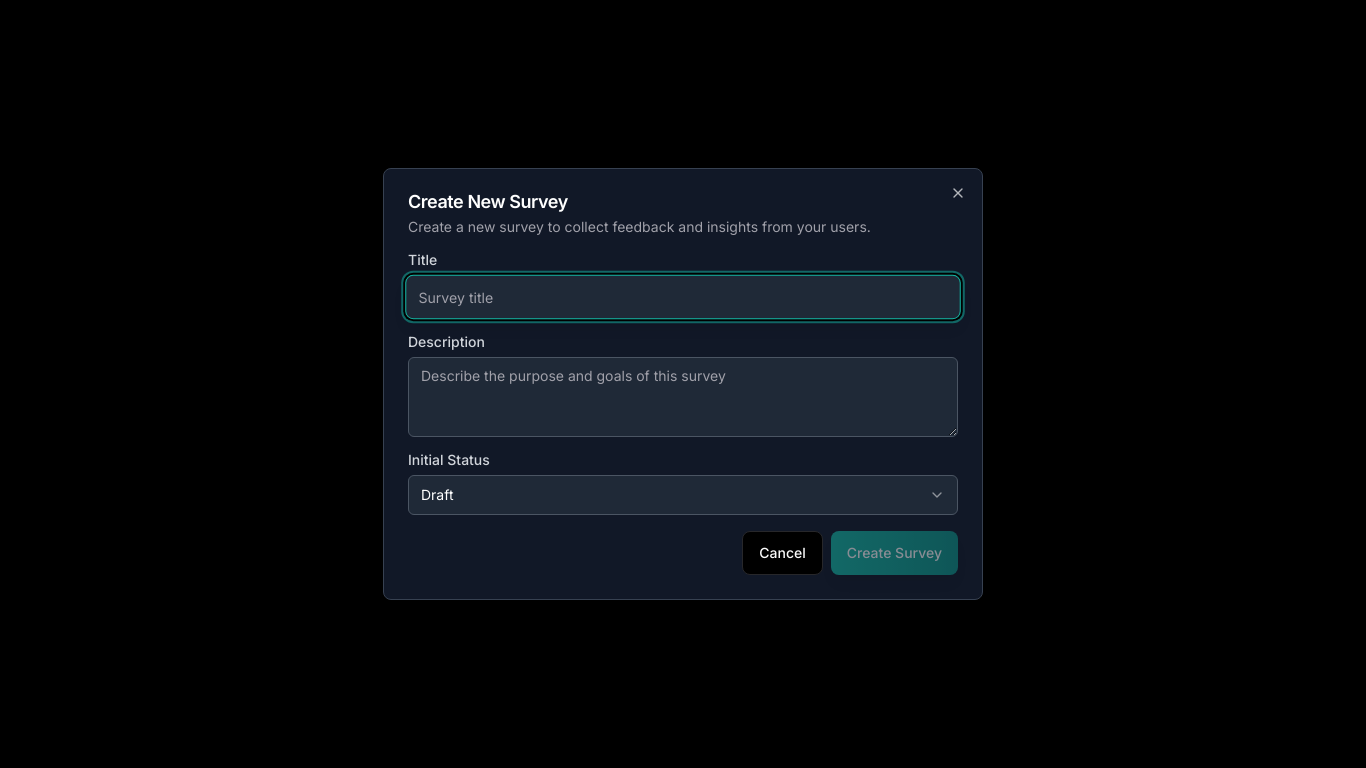
Test: SurveyCreateDialog › shows loading state during submission
The width and height of the screenshot is (1366, 768).
Type "Test Survey" into the field labelled "Title". click: (683, 297)
box: [405,275,961,319]
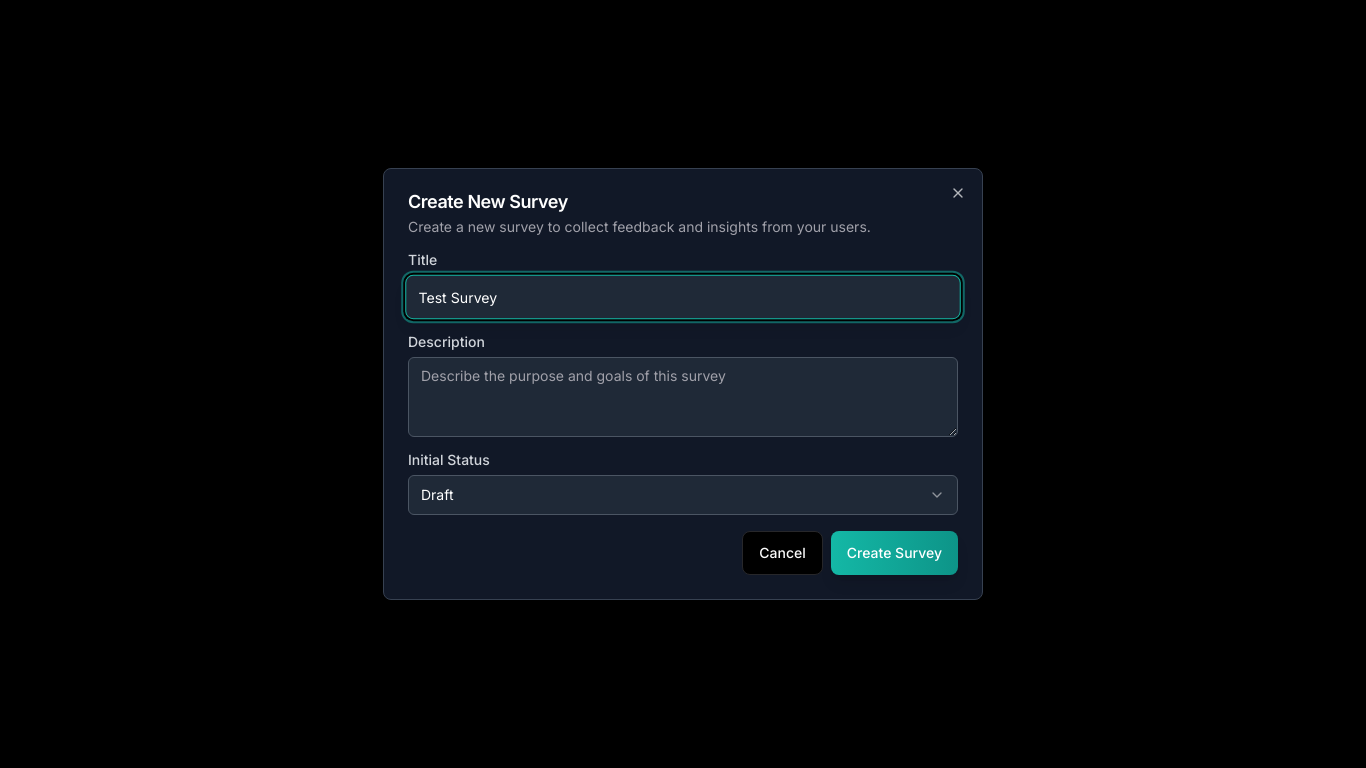
Click the button "Create Survey". click: (894, 553)
box: [831,531,958,575]
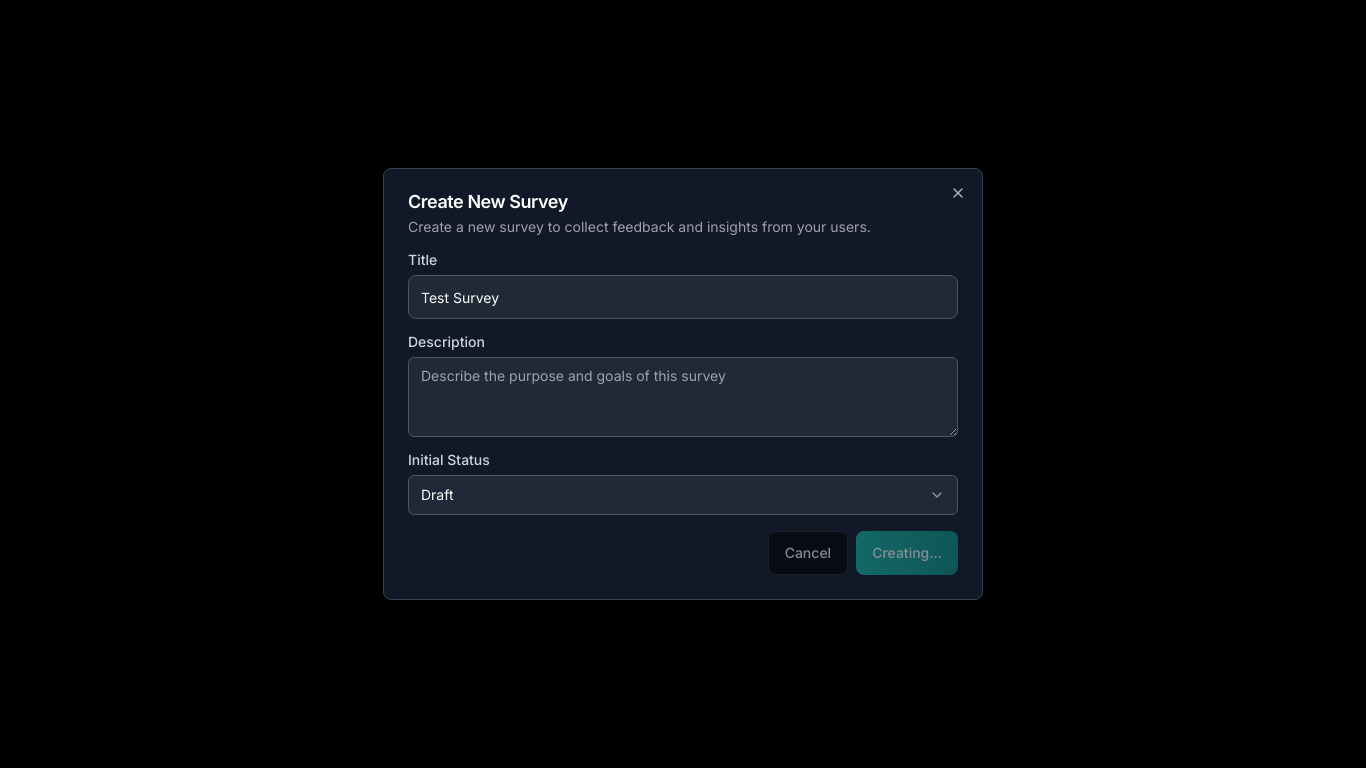
Expected: the button "Creating..." is disabled, [856,531,958,575]
